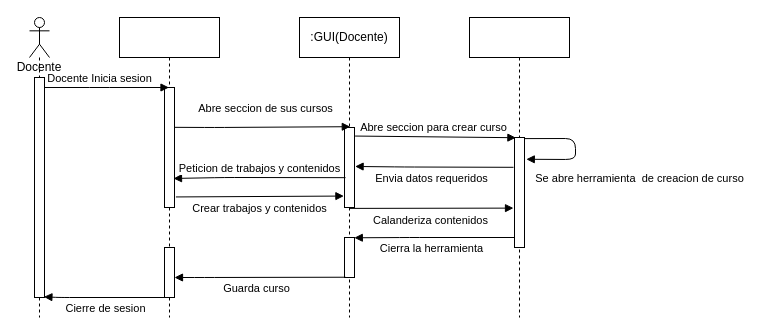
The diagram is 762 pixels wide and 335 high, and some of its shapes have lost their labels. The centre of each missing label's shape, as x and y in pixels:
:Cursos: pixel 519 167
:GUI: pixel 169 167
